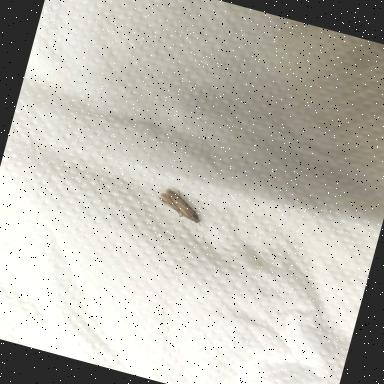pbw: (154, 186, 208, 226)
